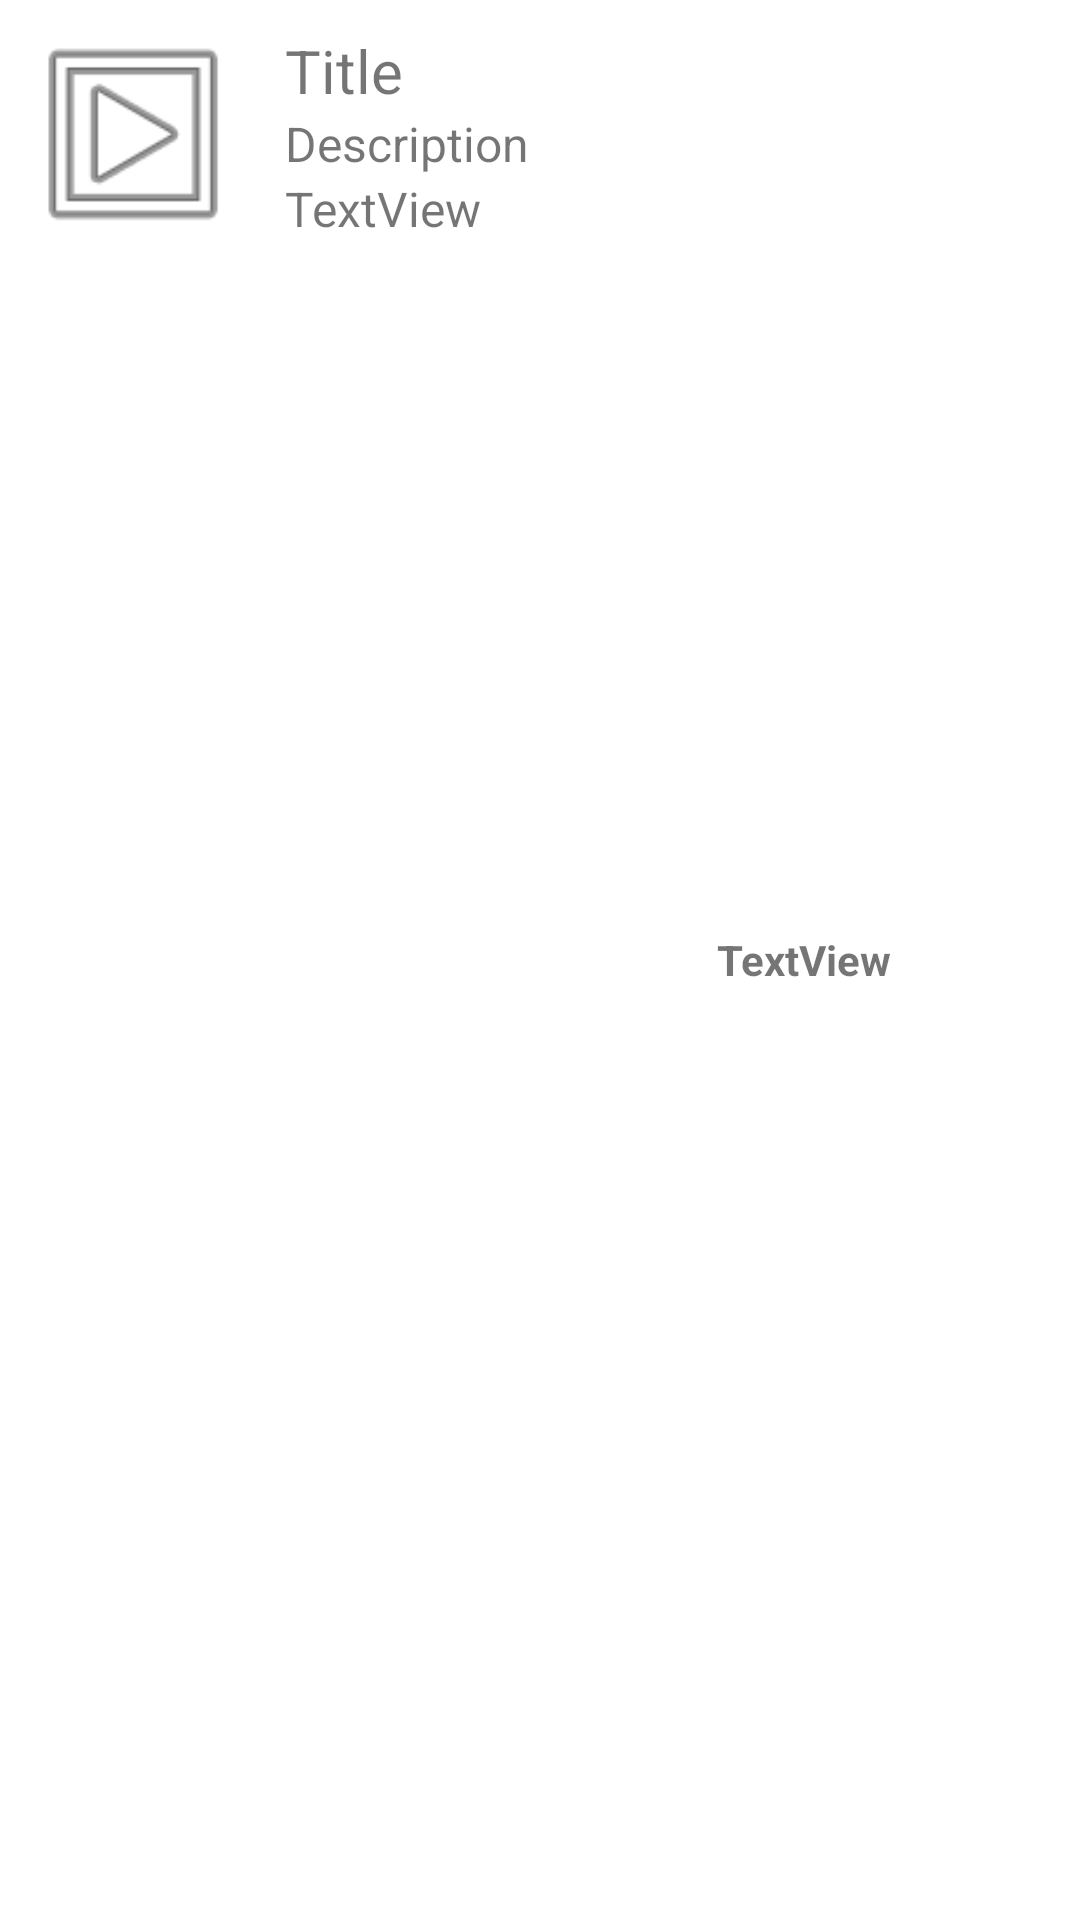

Where to tap for icons on this 1080*1920 app screen, as (x=x, y=y):
slideshow: (x=133, y=134)
